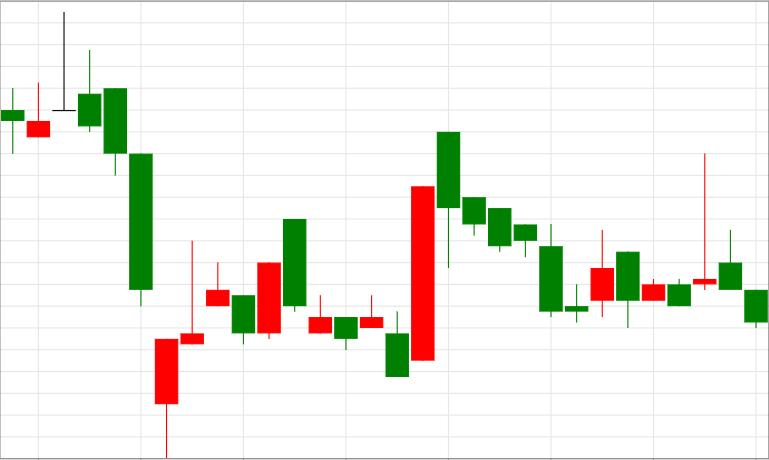morning_star_rise: (437, 131, 614, 323)
